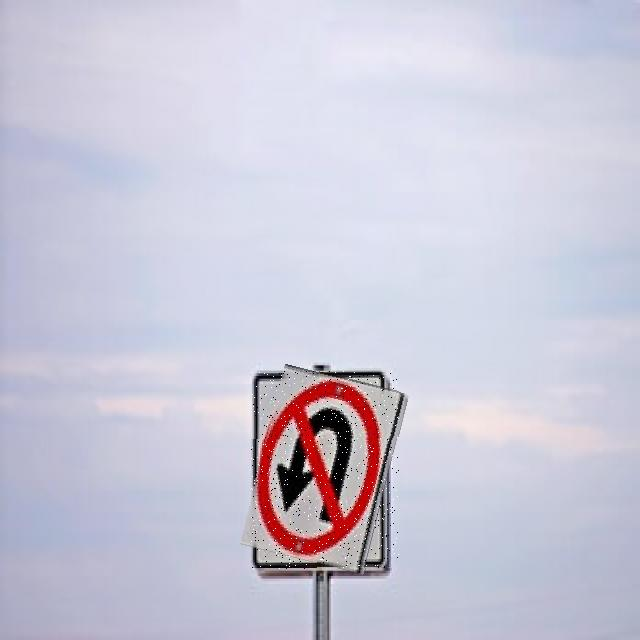no u turn: (251, 371, 399, 569)
